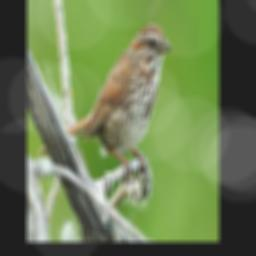Sparrow: (38, 21, 174, 186)
